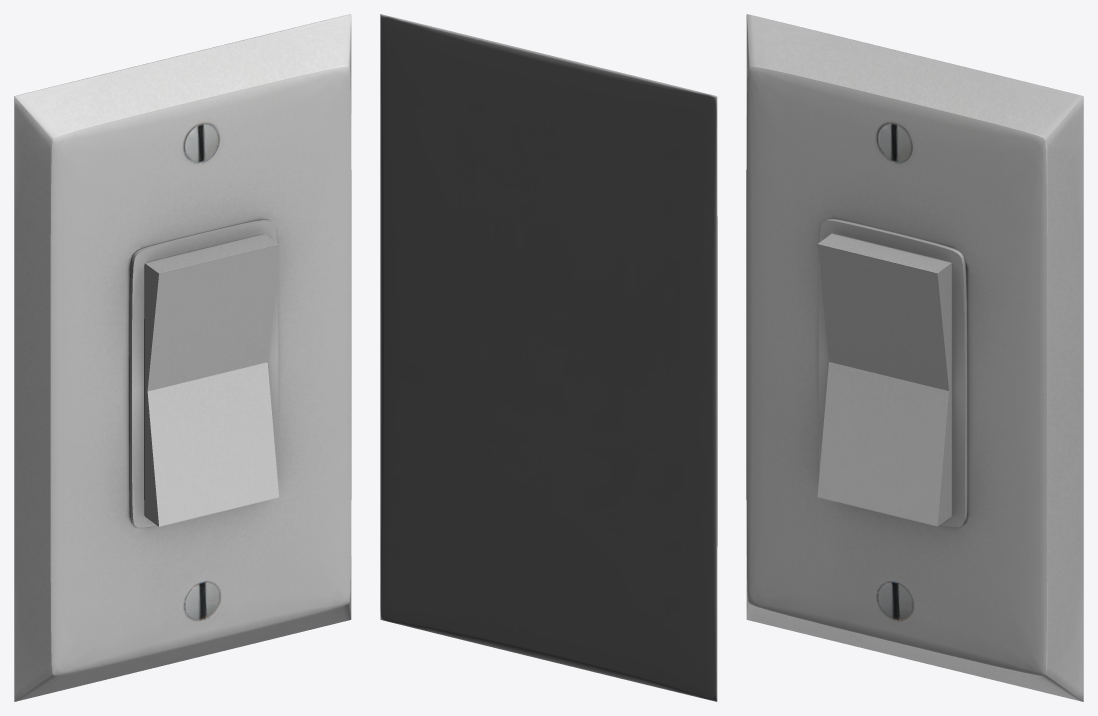
File: switch.glb
The picture shows the model from 3 angles, left to right: view 1: azimuth 30°, elevation 25°; view 2: azimuth 150°, elevation 25°; view 3: azimuth 330°, elevation 25°; orthographic projection.
Parts seen in each view (by area): view 1: 10121_Light_Switch_v1_L3; view 2: 10121_Light_Switch_v1_L3; view 3: 10121_Light_Switch_v1_L3.
Part boxes in pixels (x1,y1,x2,y2): 10121_Light_Switch_v1_L3: (14, 14, 351, 701); 10121_Light_Switch_v1_L3: (380, 14, 717, 701); 10121_Light_Switch_v1_L3: (746, 14, 1083, 701).
Size of the model in its own units: 5.55 by 9.54 by 1.08.
1 material, 1 textured.
